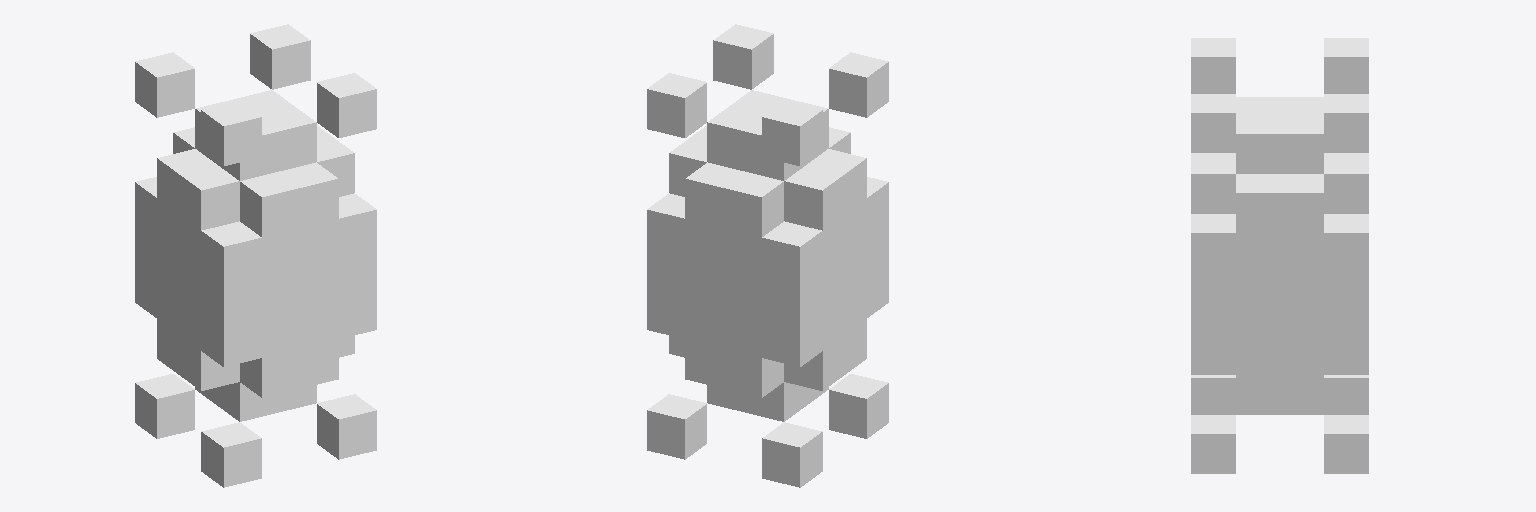
File: Switch_yellow.obj
3 views of the same model, side by side, from view 1: azimuth 30°, elevation 25°; view 2: azimuth 150°, elevation 25°; view 3: azimuth 270°, elevation 25° (orthographic).
Bounding box in the file's own units: 4 × 9 × 4.